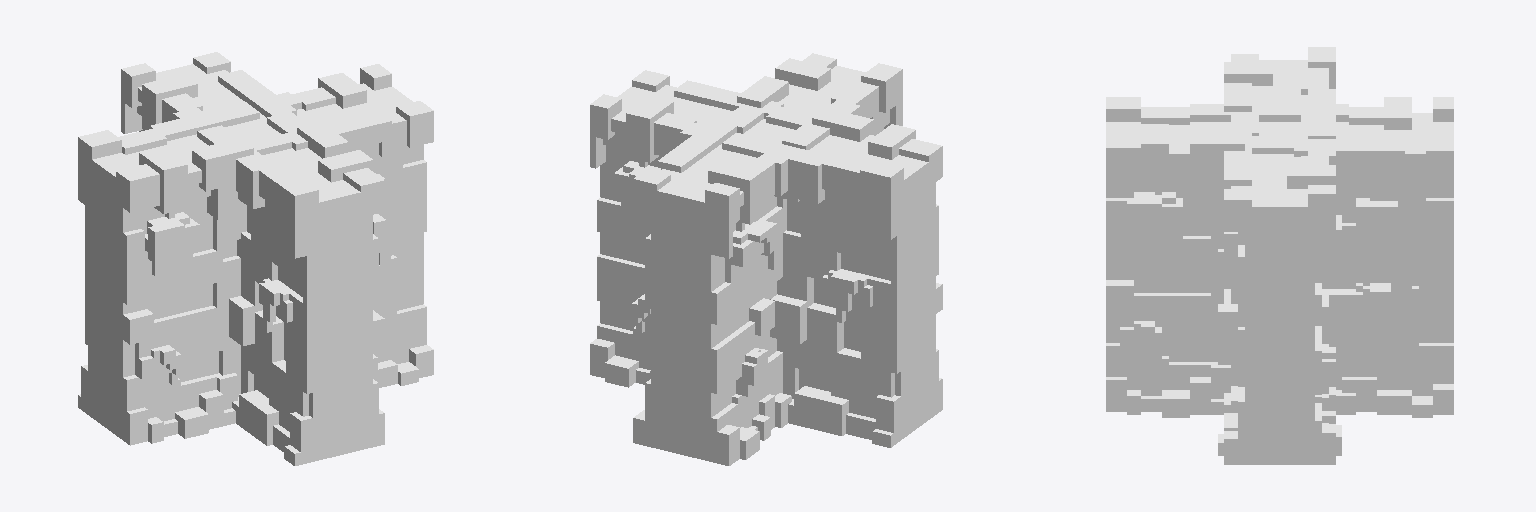
File: QuadWall.obj
3 renders of one model, left to right at view 1: azimuth 30°, elevation 25°; view 2: azimuth 150°, elevation 25°; view 3: azimuth 270°, elevation 25°, orthographic.
Visible parts, largest first — view 1: object 1; view 2: object 1; view 3: object 1.
Boxes of the visible parts, box(x1,y1,x2,y2) form: object 1: box(78, 52, 433, 465); object 1: box(590, 53, 942, 465); object 1: box(1106, 47, 1453, 464).
Bounding box in the file's own units: 5 × 4.3 × 5.